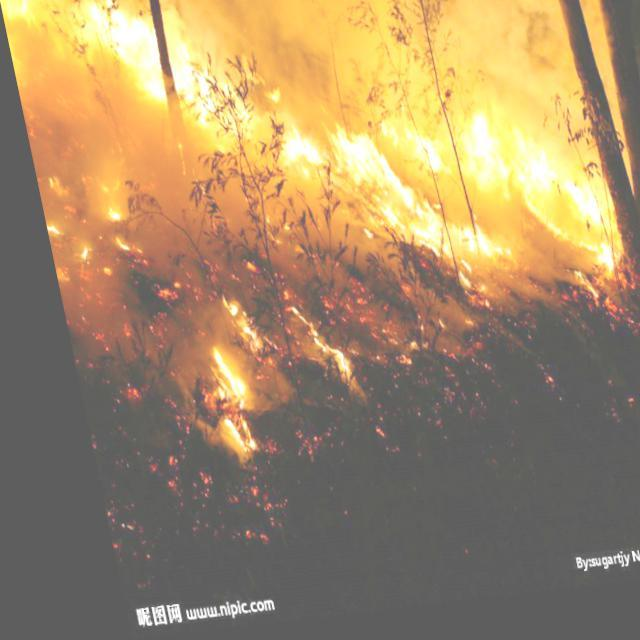Fire: (5, 0, 639, 318), (179, 341, 240, 464), (288, 324, 340, 396), (212, 305, 256, 370)
